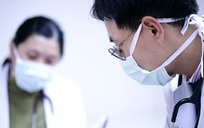mask: (109, 42, 174, 91), (12, 51, 57, 92)
